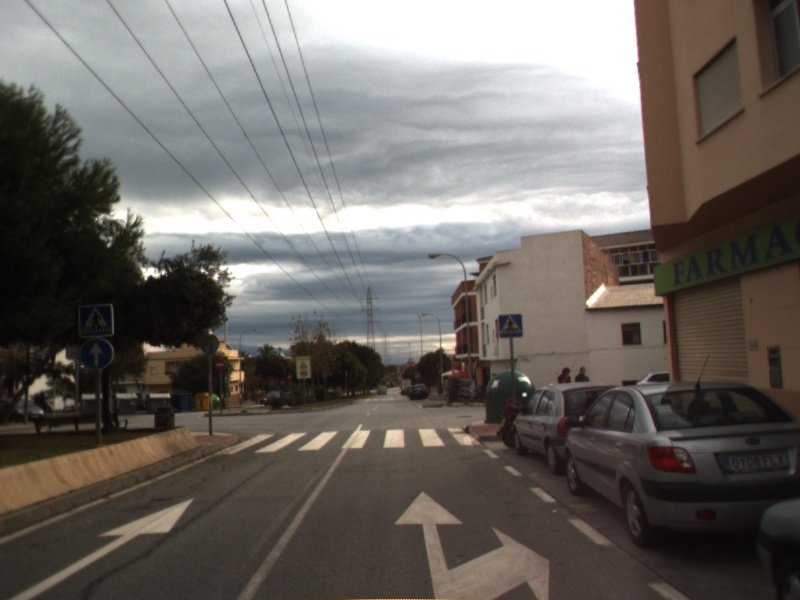STRAIGHT: (8, 496, 196, 600)
STRAIGHT_RIGHT: (391, 489, 552, 600)
